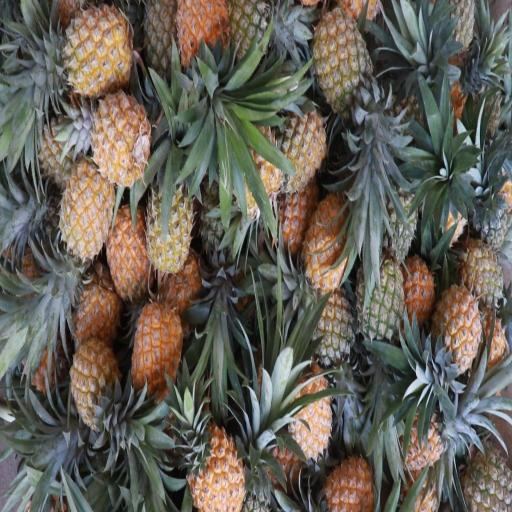------------------------------: (308, 5, 377, 141), (299, 280, 355, 386), (141, 151, 191, 266)
Pineapple - v8 v1: (35, 0, 129, 101), (178, 390, 241, 512), (91, 78, 154, 190), (276, 350, 335, 467), (54, 159, 115, 271), (297, 185, 355, 302), (126, 300, 184, 408), (433, 275, 484, 391), (166, 0, 232, 89), (272, 103, 326, 201), (102, 206, 154, 306), (69, 340, 119, 439), (68, 266, 118, 355), (323, 444, 375, 512)
